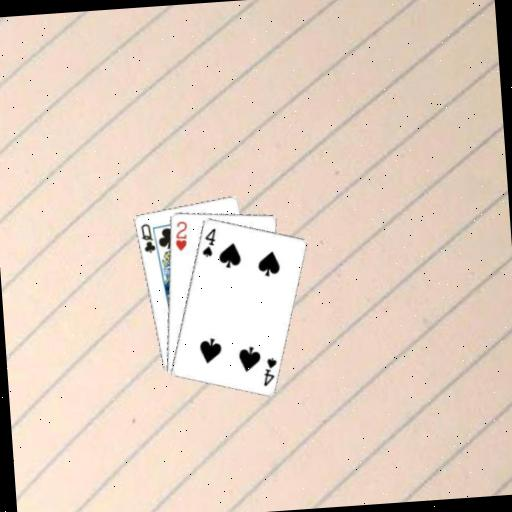2H: (171, 217, 190, 252)
4S: (197, 225, 219, 259), (258, 354, 279, 388)
QC: (138, 220, 157, 255)
